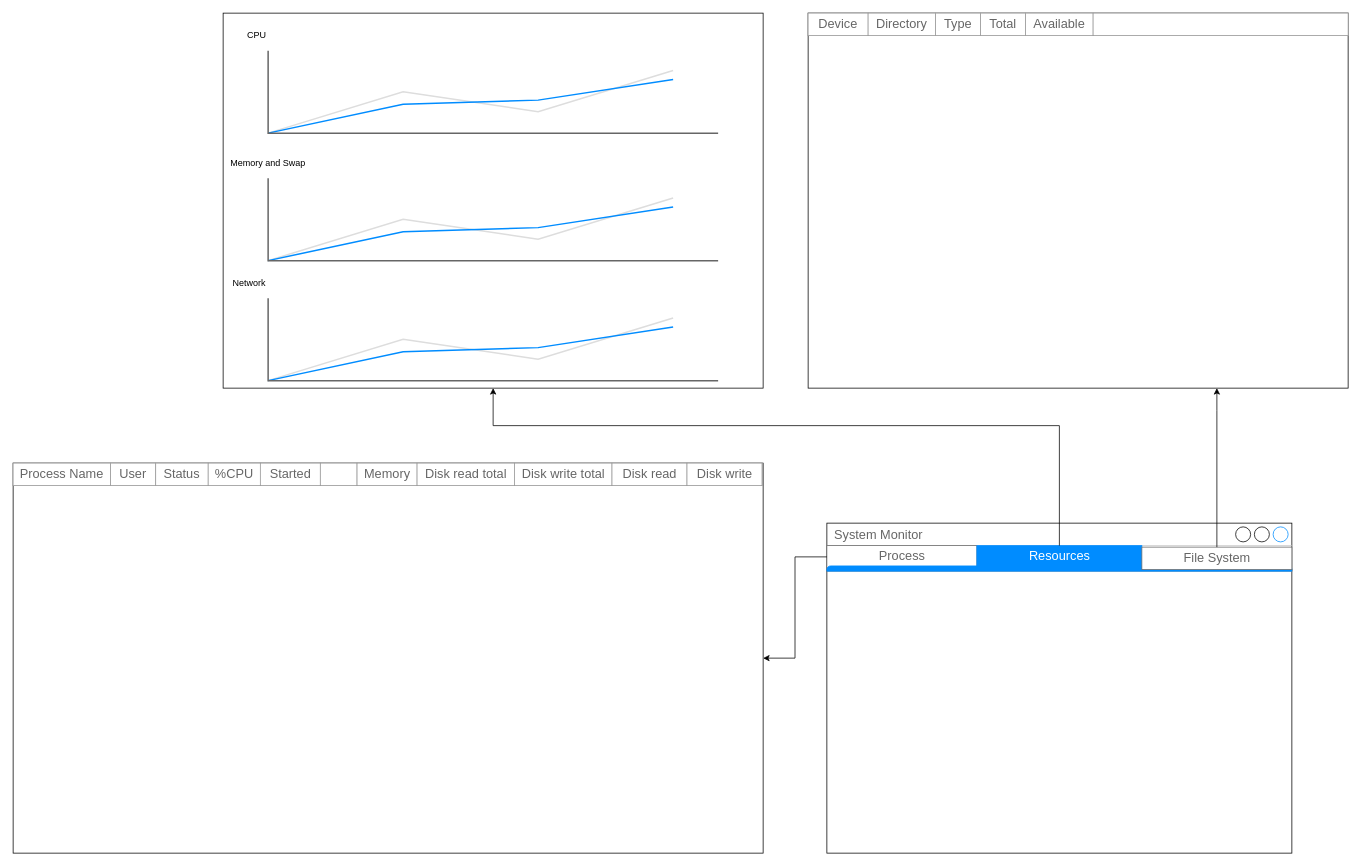
Image size: 1361x866. Some labels were removed from this diagram. The shapes that lost their labels are listed below. From the top down, each one's centre as x and y in pixels, then its label:
At (x=1220, y=24): "Used".
At (x=338, y=474): "ID".
